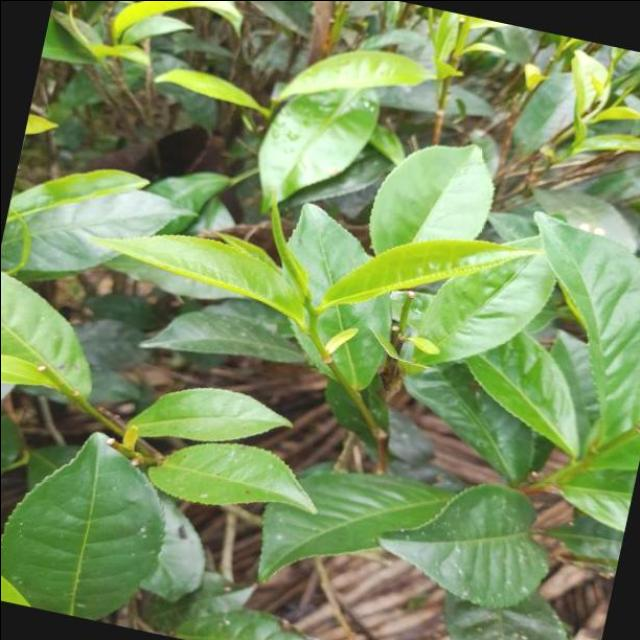Stem: (309, 309, 316, 321)
